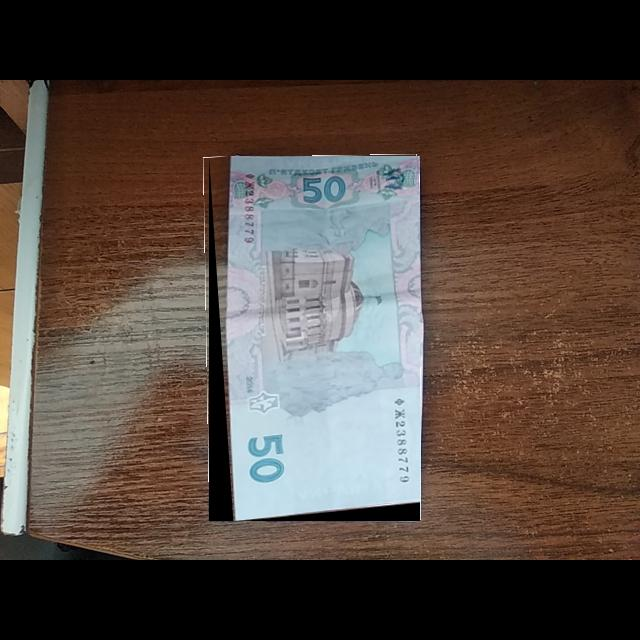50uah: (229, 156, 421, 522)
